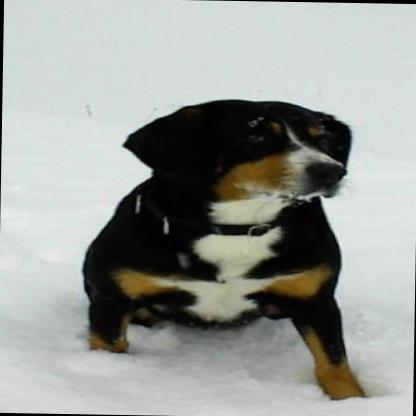EntleBucher: (72, 95, 400, 401)
